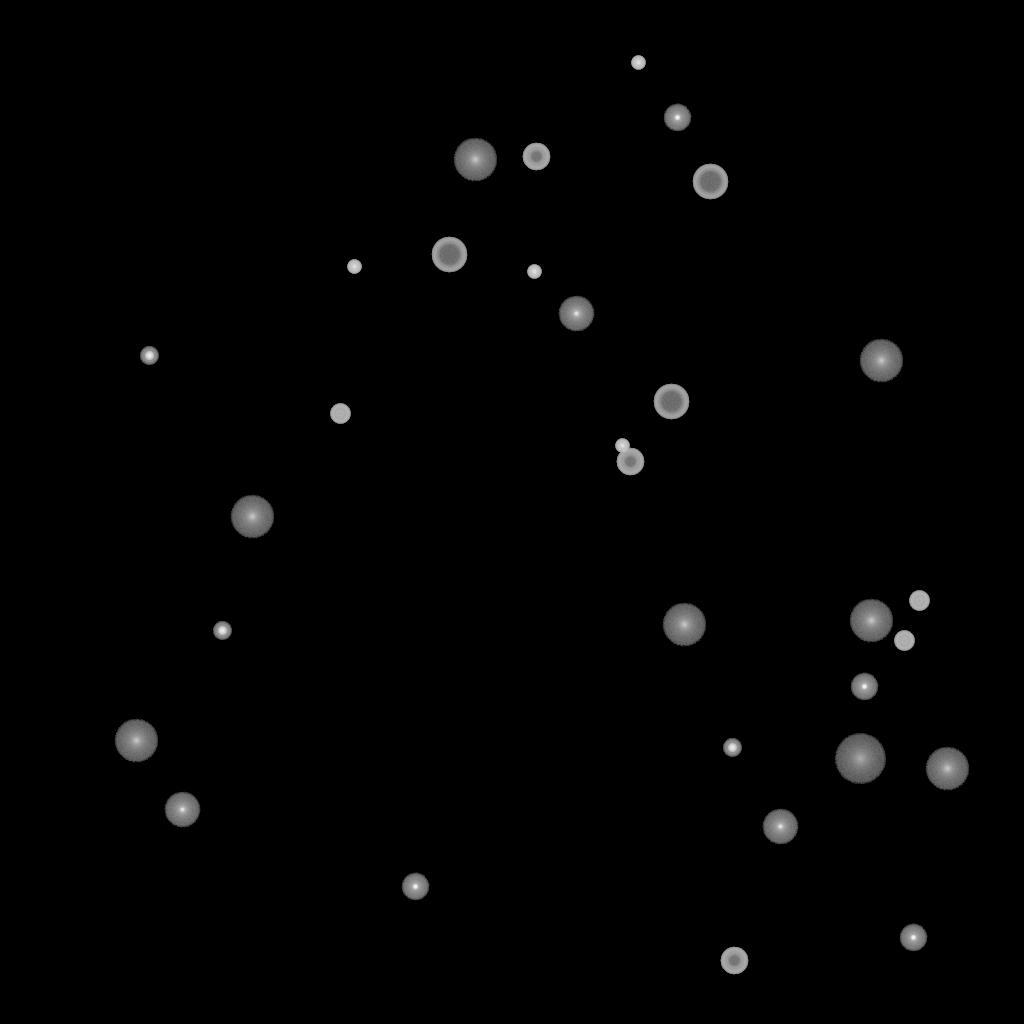depth:-10: (850, 673, 878, 701), (899, 924, 927, 952), (663, 104, 691, 132), (401, 873, 429, 901)
depth:-20: (140, 347, 158, 365), (723, 739, 741, 757), (213, 622, 231, 640)
depth:-30: (527, 265, 541, 279), (631, 56, 645, 70), (347, 260, 361, 274), (615, 439, 629, 453)
depth:-40: (330, 404, 350, 424), (894, 631, 914, 651), (909, 591, 929, 611)
depth:-50: (616, 448, 644, 476), (522, 143, 550, 171), (720, 947, 748, 975)
depth:-60: (692, 164, 728, 200), (653, 384, 689, 420), (431, 237, 467, 273)
depth:0: (558, 296, 594, 332), (164, 792, 200, 828), (762, 809, 798, 845)
depth:10: (662, 603, 706, 647), (230, 495, 274, 539), (453, 138, 497, 182), (114, 719, 158, 763), (859, 339, 903, 383), (925, 747, 969, 791), (849, 599, 893, 643)
depth:20: (834, 734, 886, 784)
